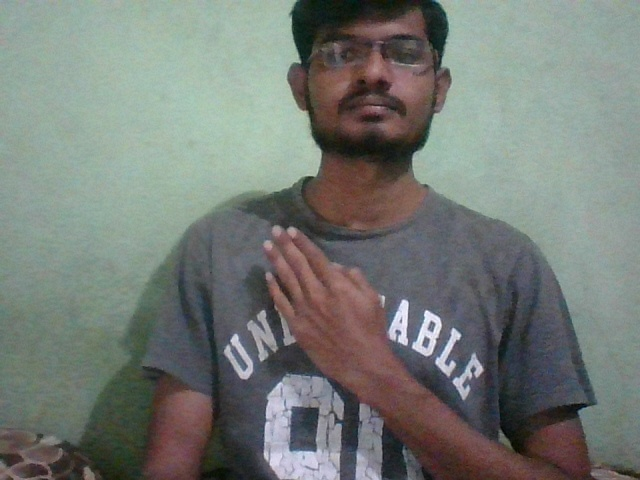no: (247, 219, 410, 388)
